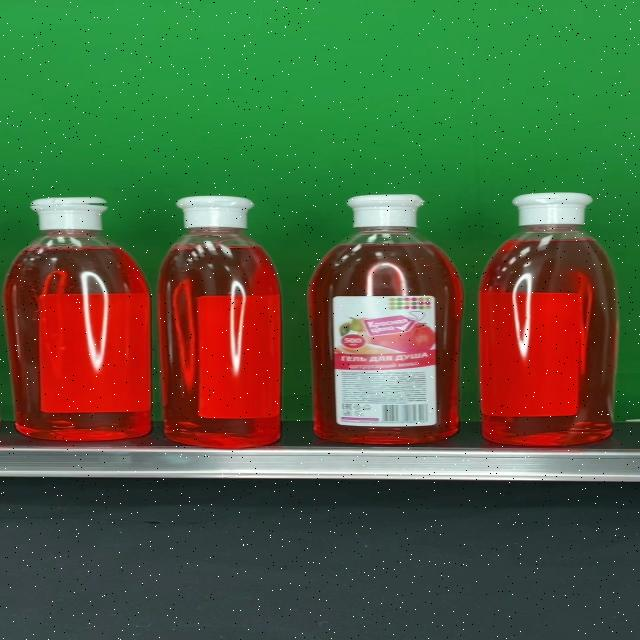Bottle: (308, 194, 463, 444), (4, 197, 151, 441), (479, 192, 618, 444), (157, 196, 281, 448)
Cap: (512, 192, 595, 226), (345, 194, 427, 227), (31, 197, 108, 231), (177, 196, 255, 228)
